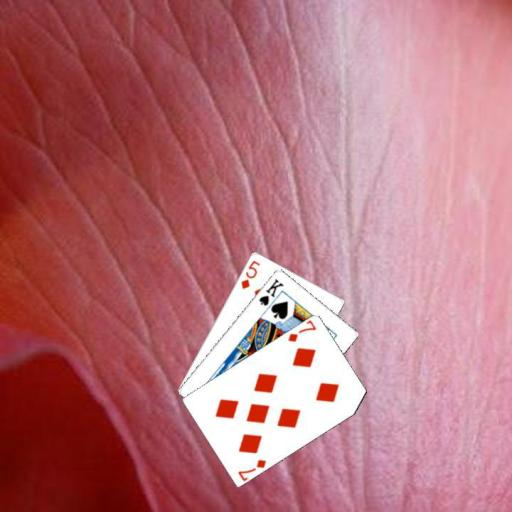5D: (238, 257, 262, 290)
7D: (284, 318, 318, 343), (235, 456, 267, 481)
KS: (255, 275, 285, 307)
